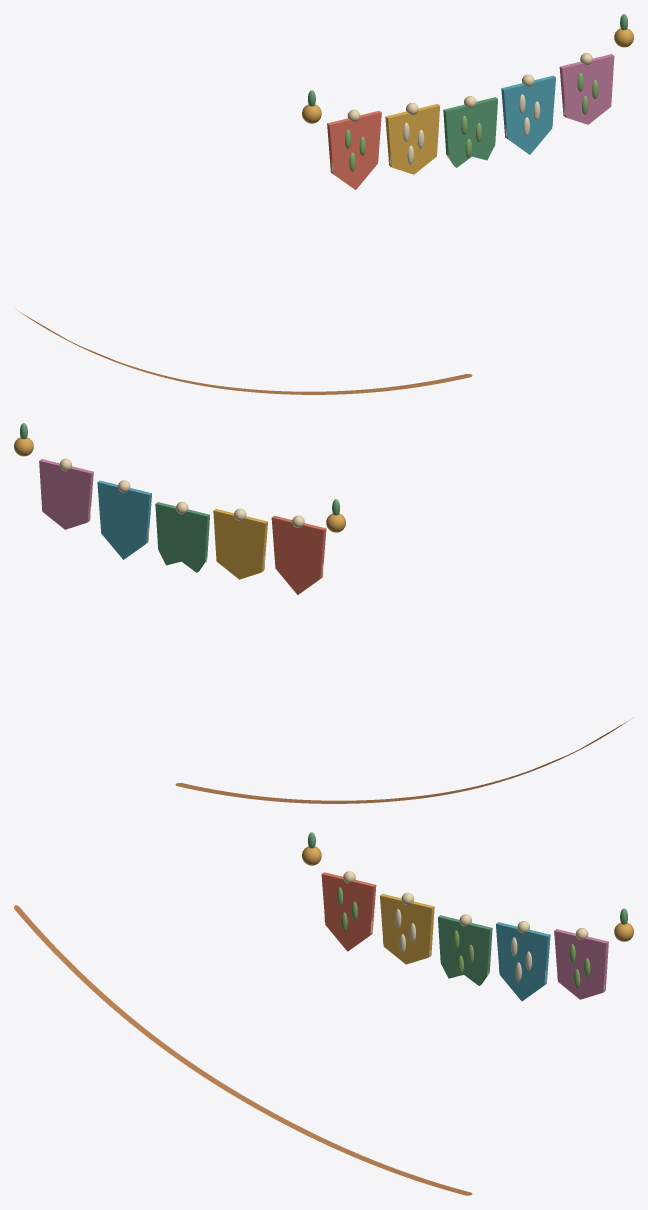
File: gblb_orchard_pennant.glb
3 views of the same model, one above another, from view 1: azimuth 30°, elevation 25°; view 2: azimuth 150°, elevation 25°; view 3: azimuth 330°, elevation 25° (orthographic).
Bounding box in the file's own units: 1.94 × 0.97 × 0.0558.
